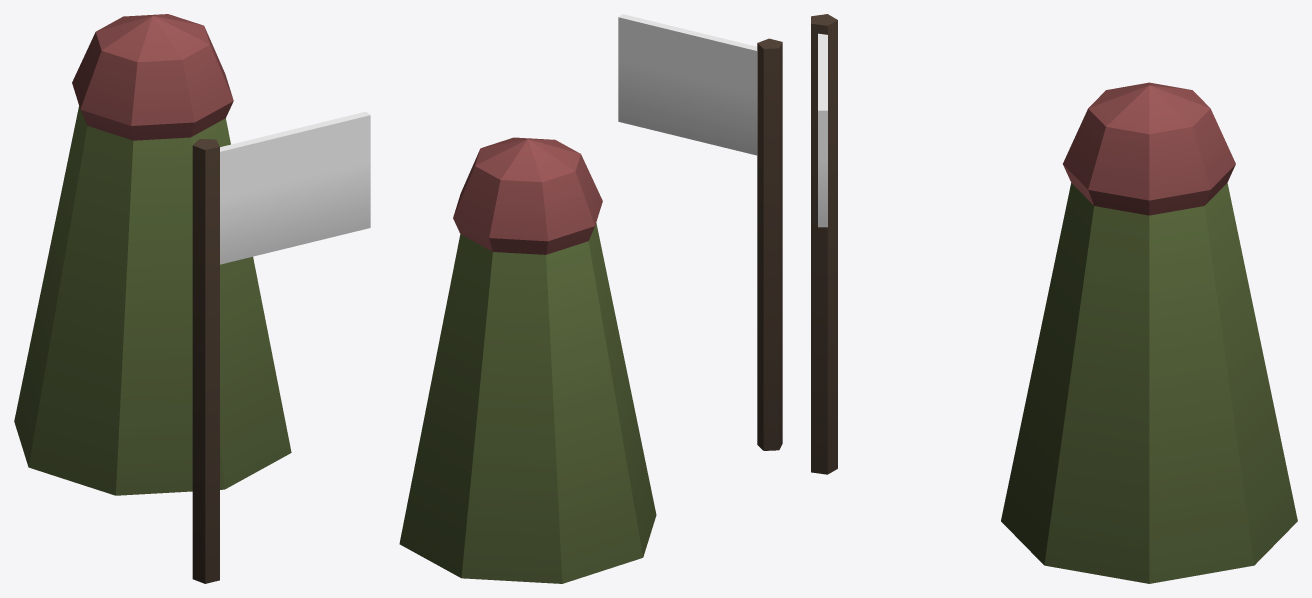
File: LISHORR.glb
3 renders of one model, left to right at view 1: azimuth 30°, elevation 25°; view 2: azimuth 150°, elevation 25°; view 3: azimuth 270°, elevation 25°, orthographic. The views are drawn at different scales.
Visible parts, largest first — view 1: Body, Flag; view 2: Body, Flag; view 3: Body, Flag.
Part boxes in pixels (x1=…): Body: x1=14, y1=14, x2=291, y2=583; Flag: x1=220, y1=111, x2=370, y2=264; Body: x1=399, y1=38, x2=782, y2=583; Flag: x1=618, y1=14, x2=757, y2=155; Body: x1=811, y1=14, x2=1297, y2=583; Flag: x1=818, y1=33, x2=827, y2=227.
Size of the model in its own units: 0.6 by 1 by 0.9832.
Materials: 1 (1 with a texture image).
